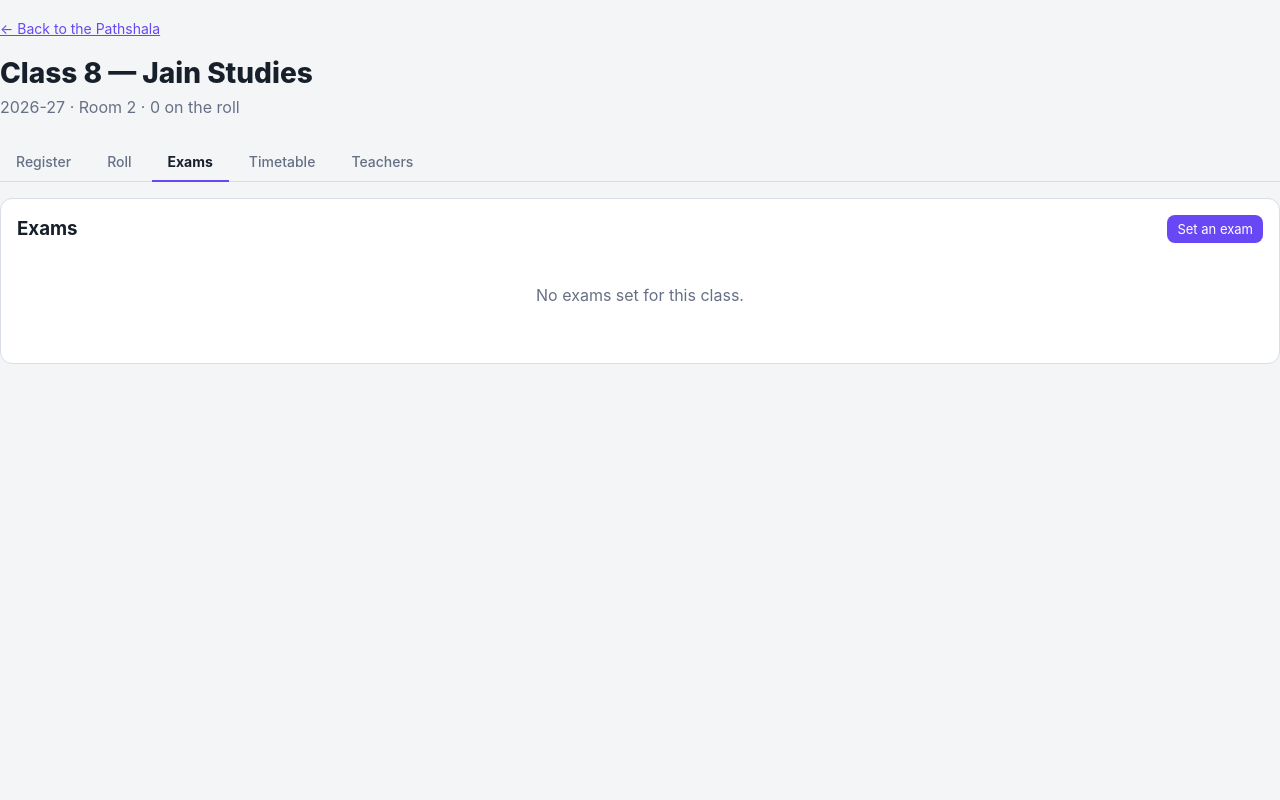
Test: ClassDetailComponent › opens on the register, with each section a tab and each form a popup
This screenshot has width=1280, height=800.
Click the button "Set an exam" at (1215, 229), box [1168,215,1263,243]
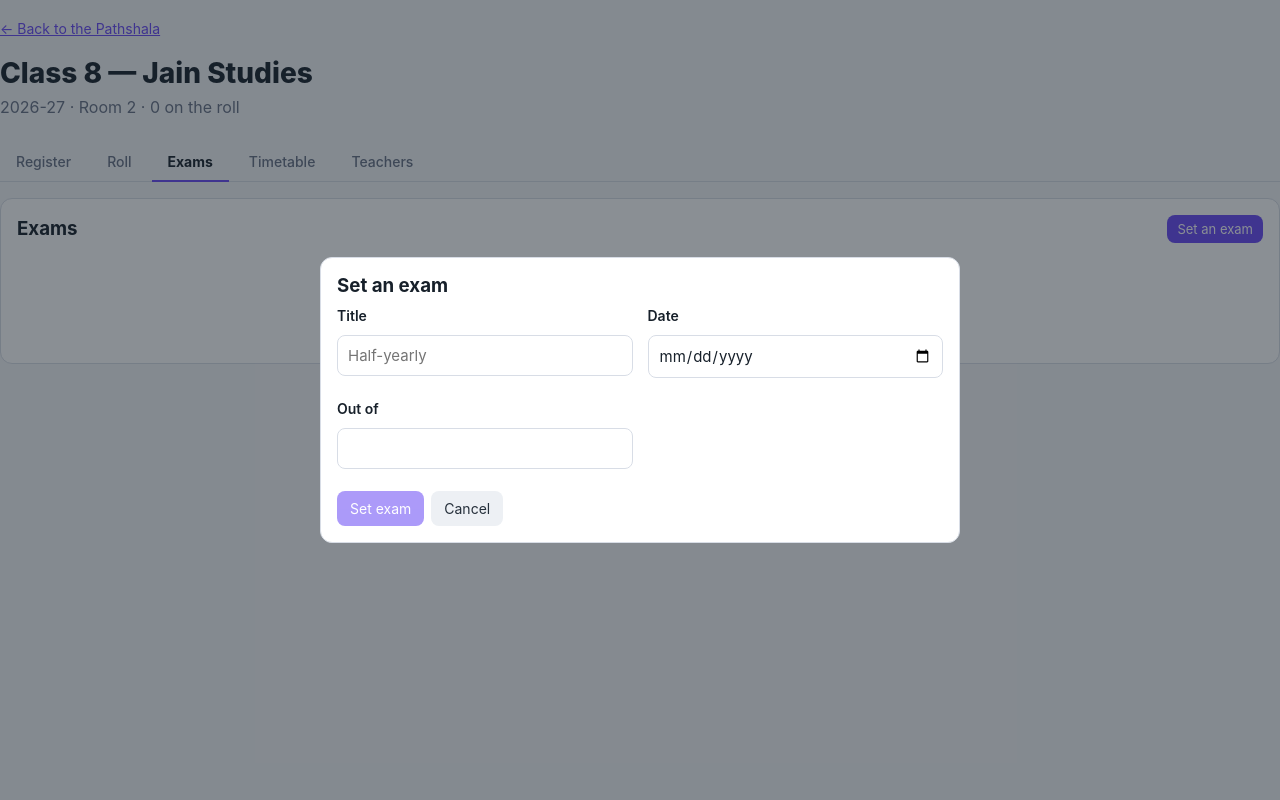
expect the field with id "exam-title" is shown: met, box [337,335,632,376]
